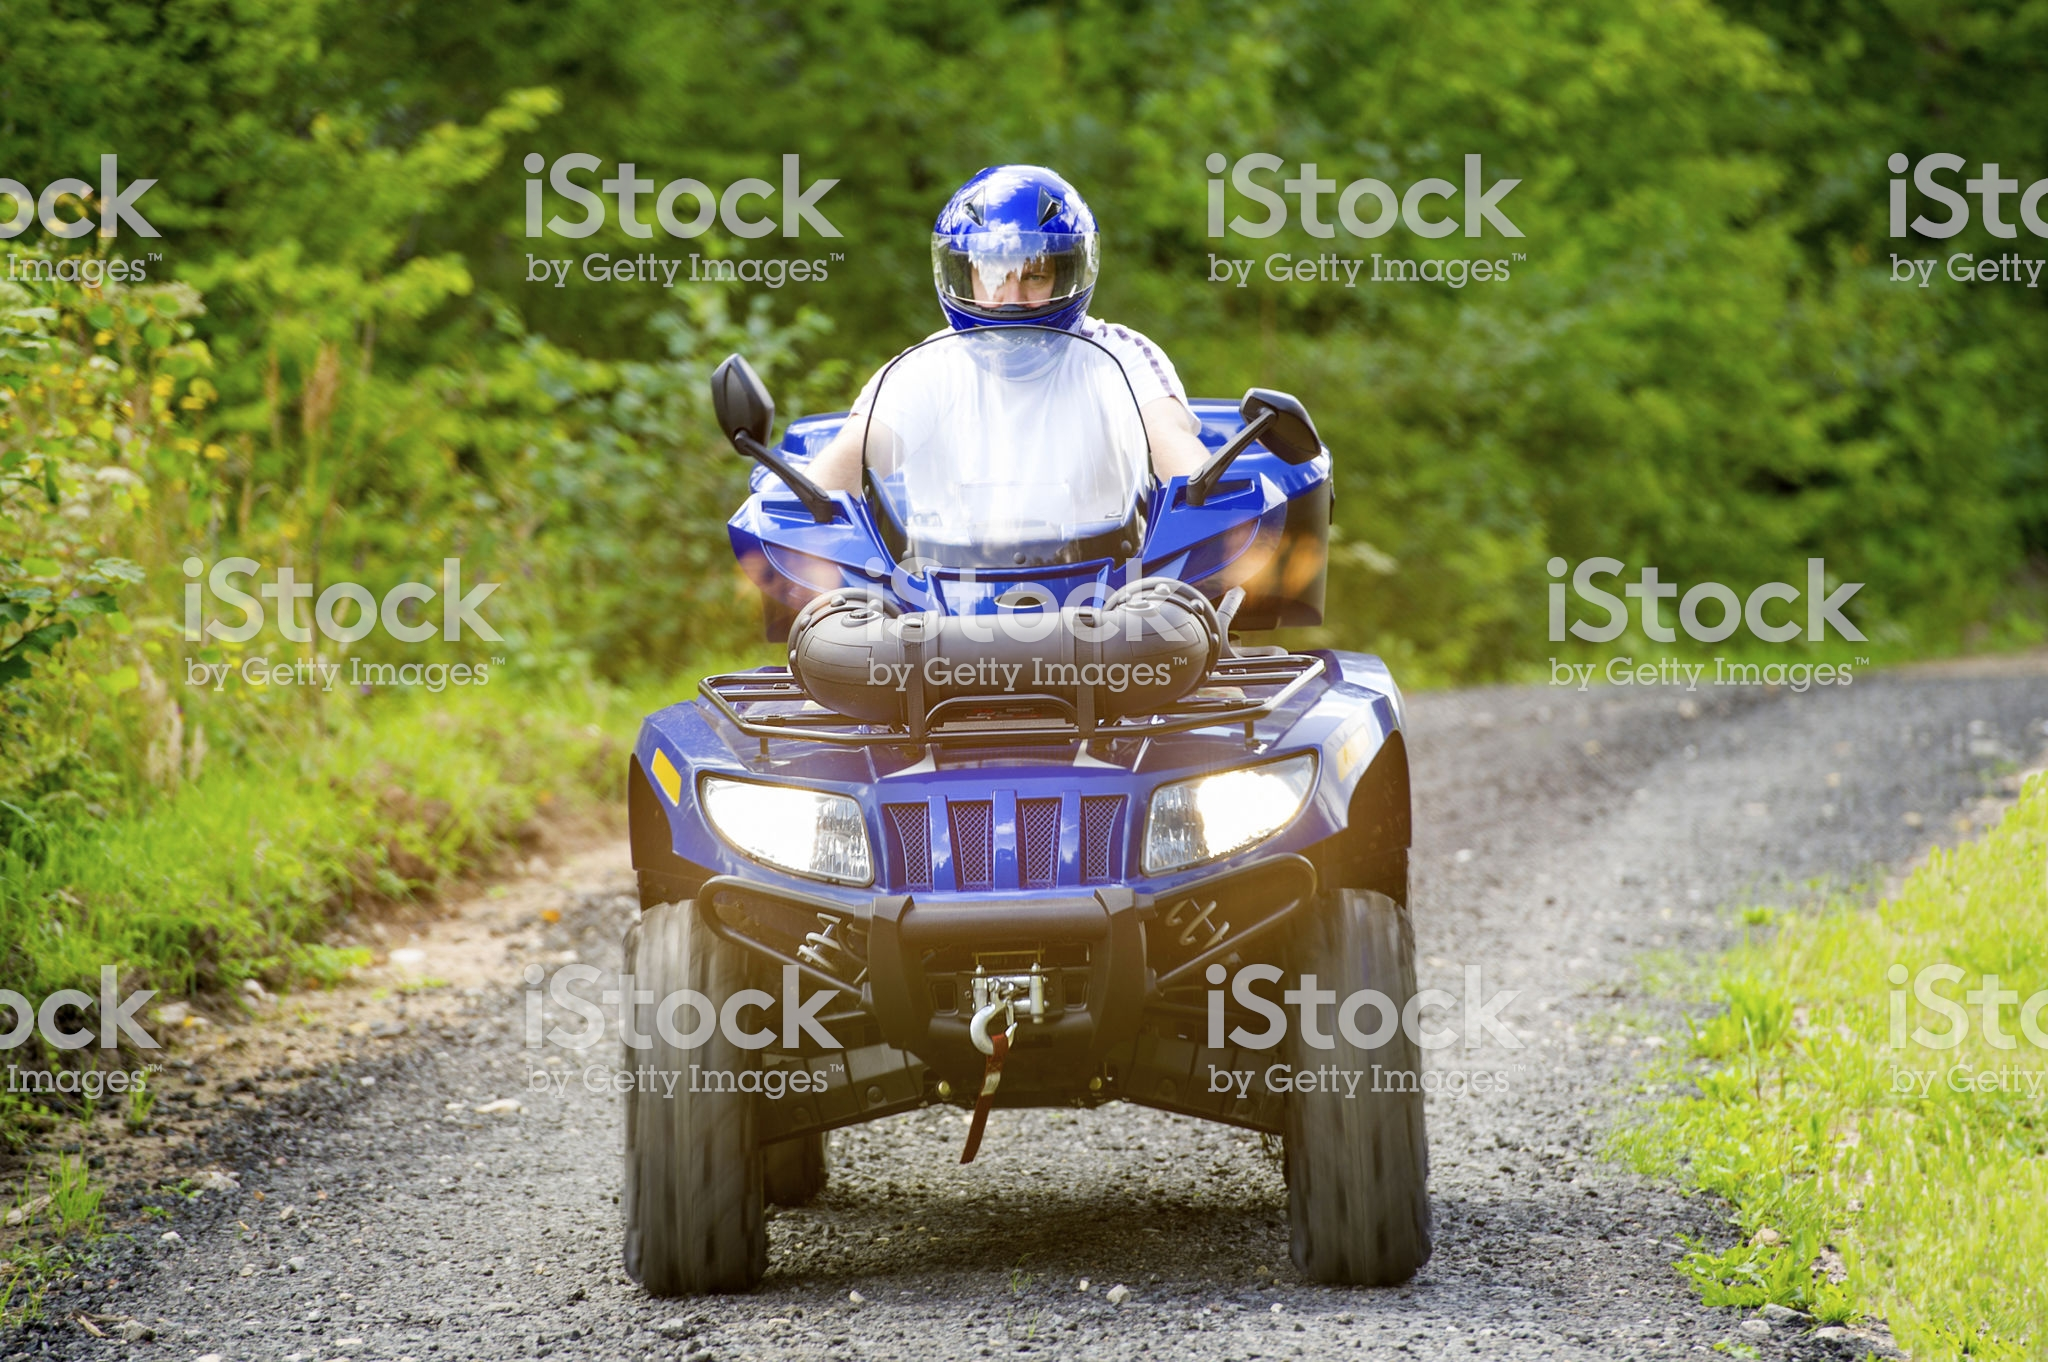helmet: (915, 154, 1139, 348)
